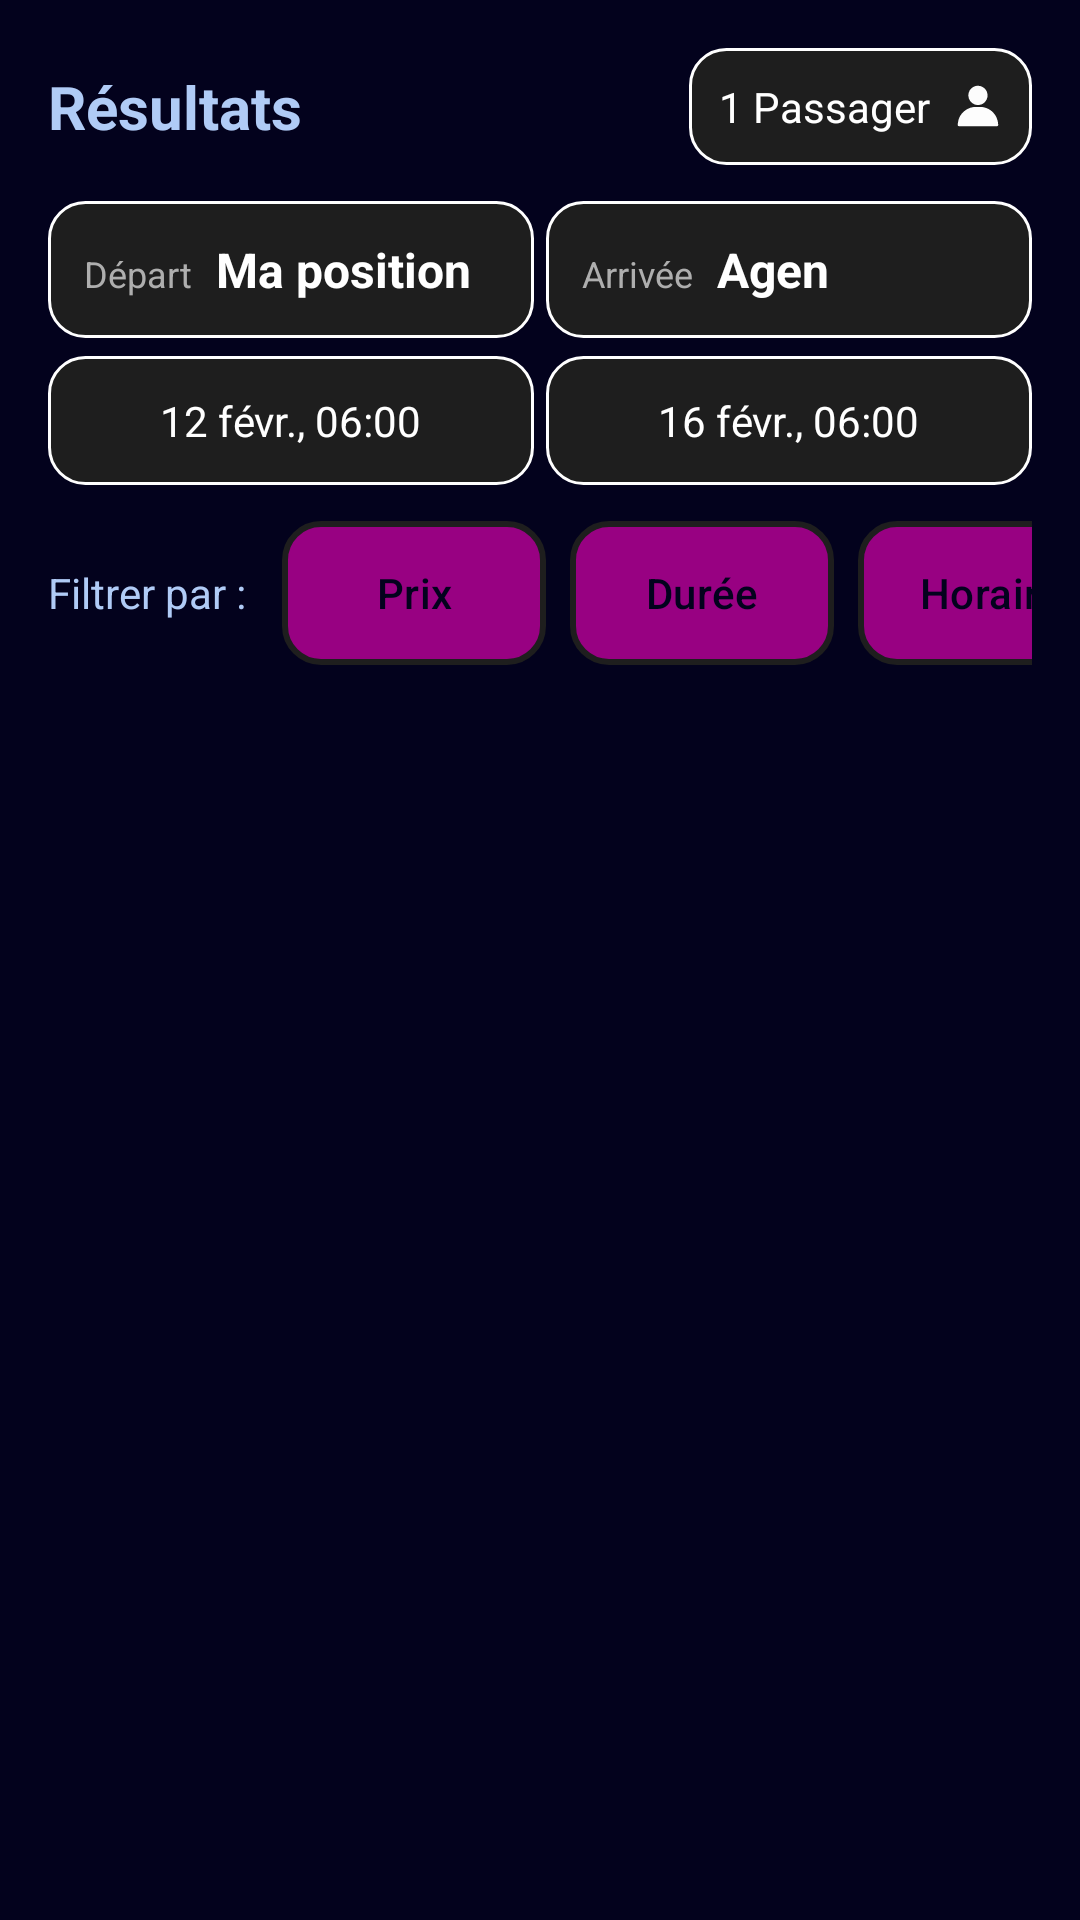

Icon bounding boxes for this 1080 × 1920 phone screenshot, format (x1, y1, x2, y2):
profil: (957, 85, 999, 127)
